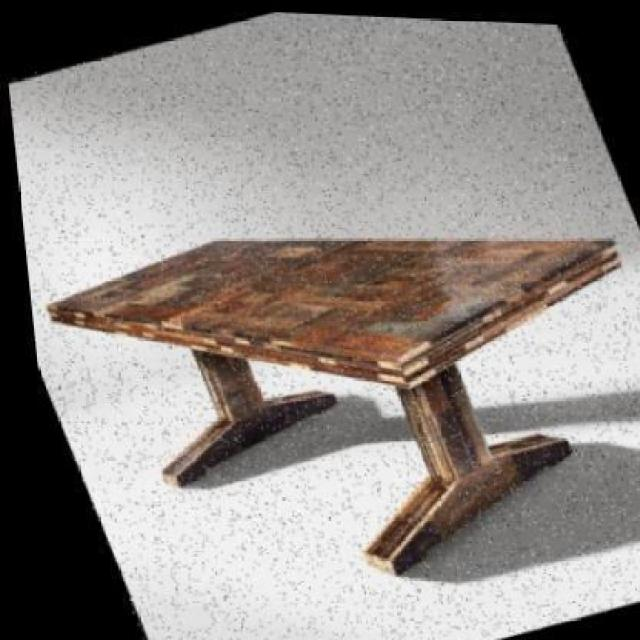tables: (44, 234, 622, 575)
